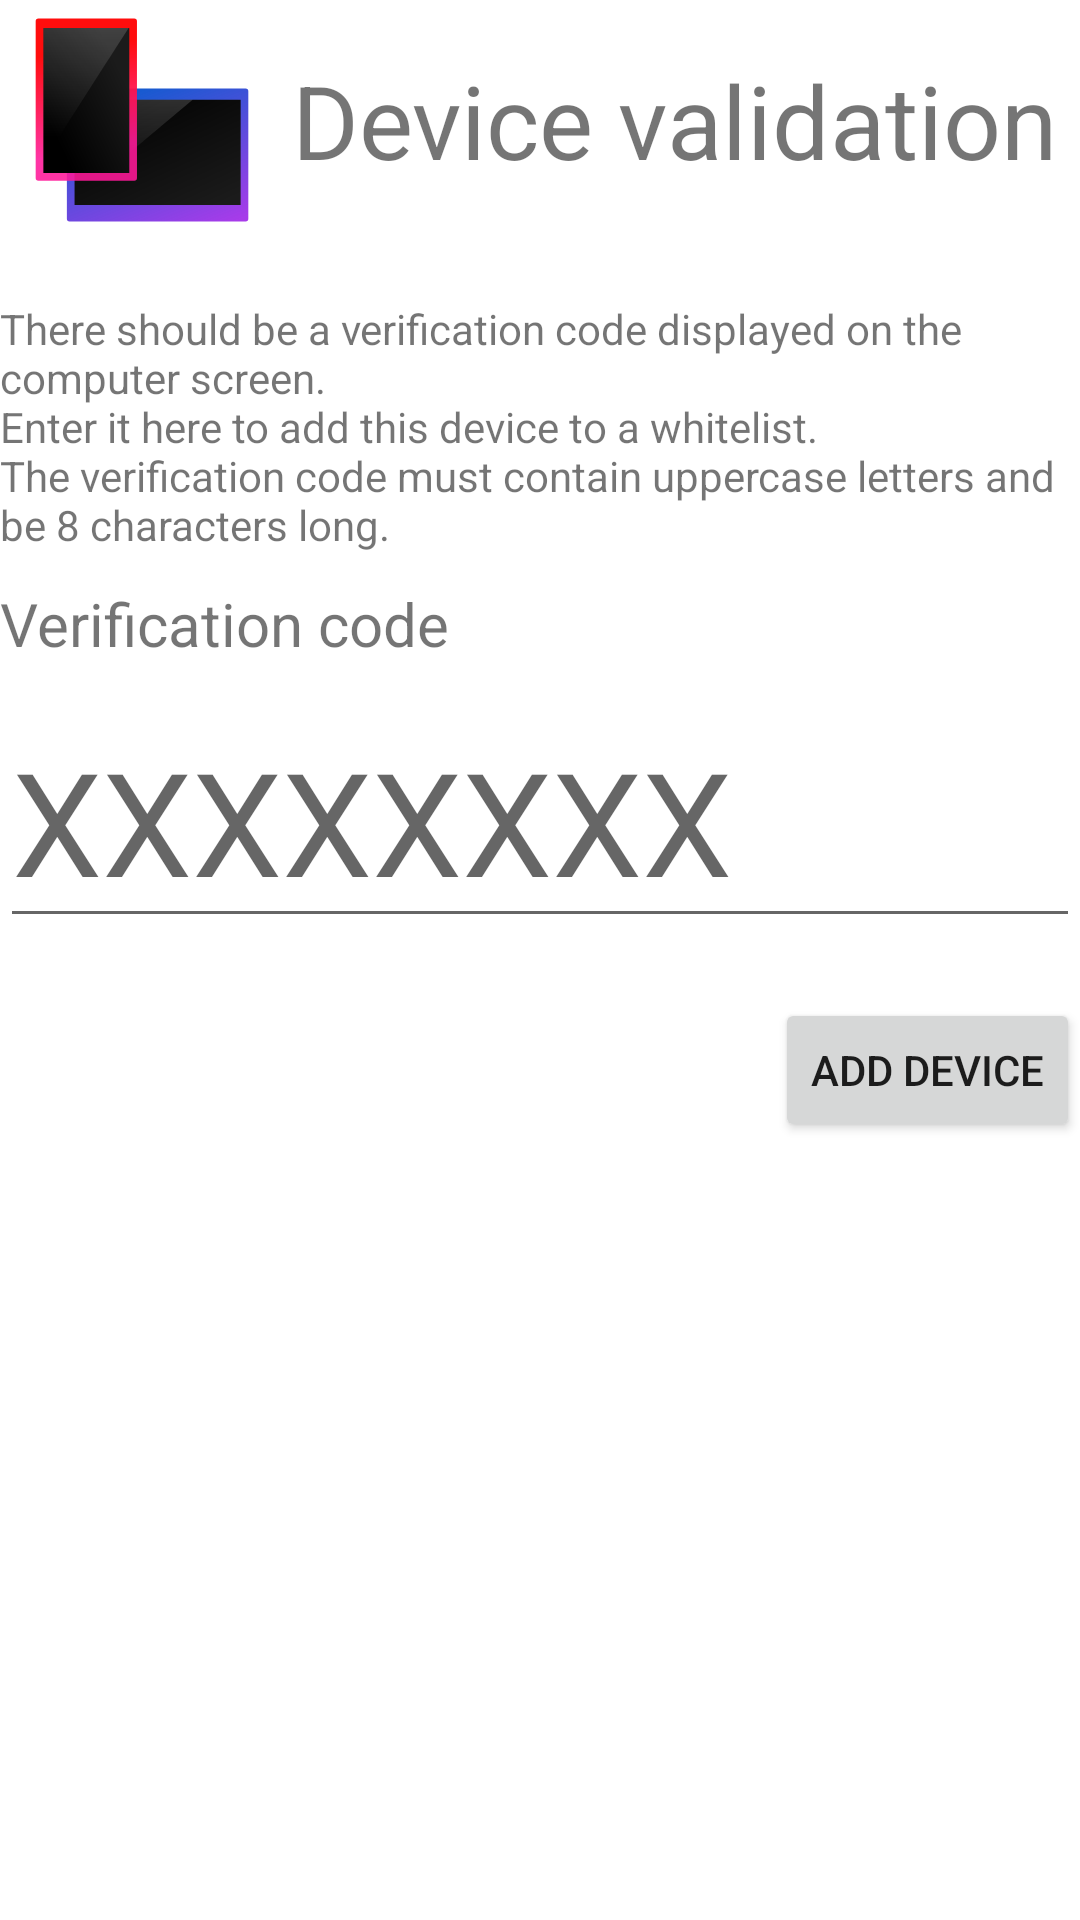

Where to tap for icons on this 1080x1920 app screen, as [x,y]:
mas devmgr: [142,120]
